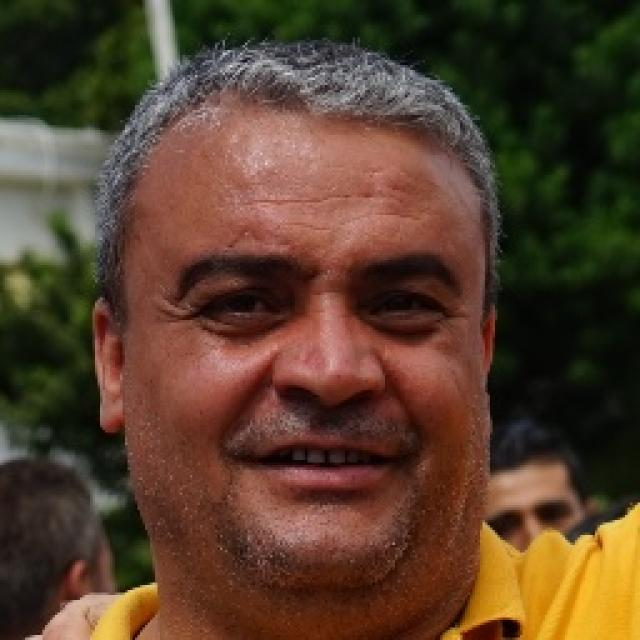earlobe: (99, 382, 126, 435)
eye: (198, 290, 280, 322), (370, 288, 441, 320)
nose: (269, 381, 396, 446)
wholeear: (92, 298, 126, 434)
